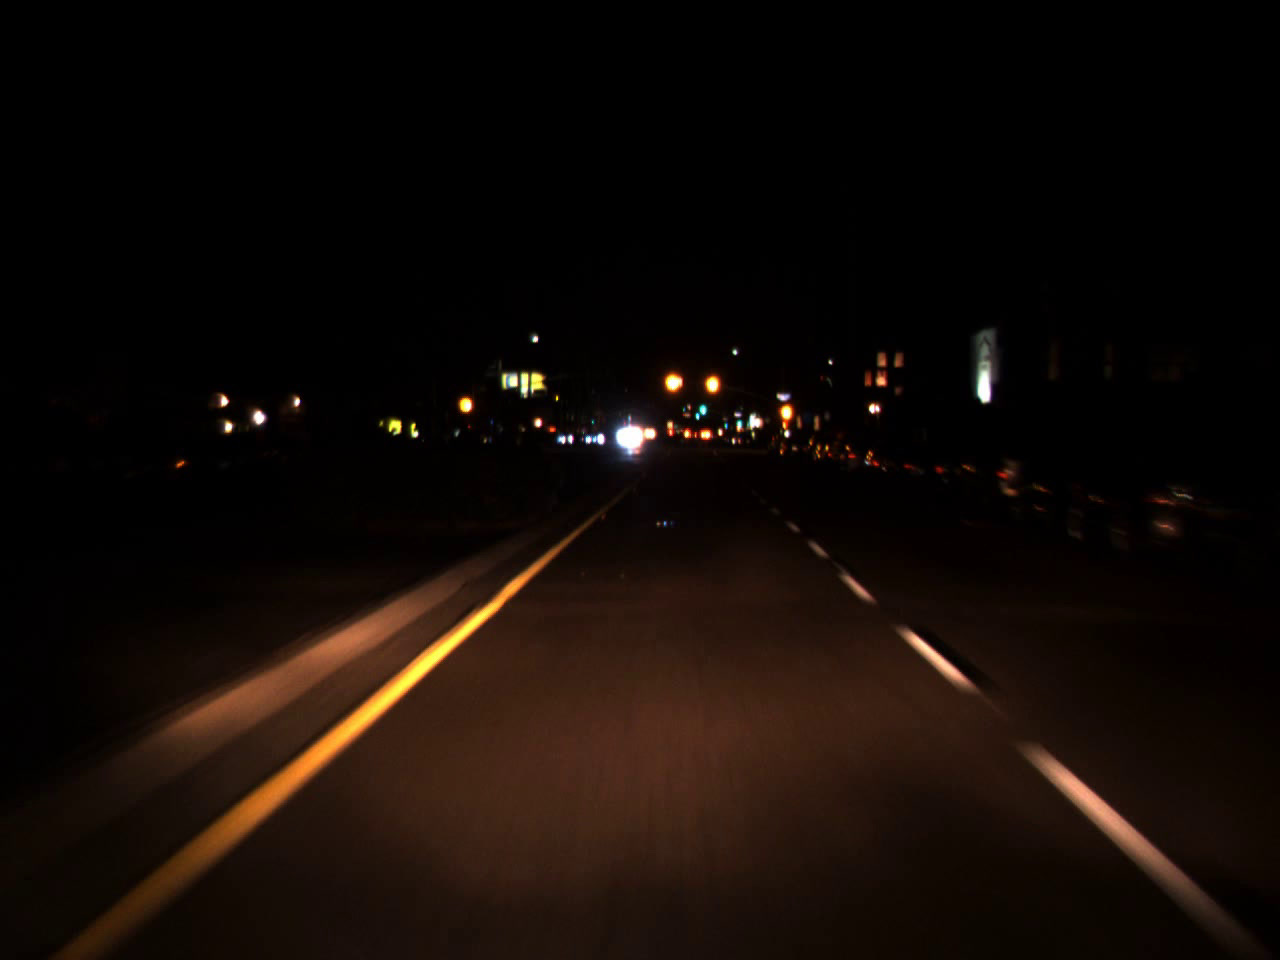go: (697, 394, 707, 418), (693, 408, 700, 419), (735, 415, 742, 427)
warning: (660, 359, 687, 404), (701, 362, 723, 404), (455, 387, 476, 419), (778, 397, 794, 424)
